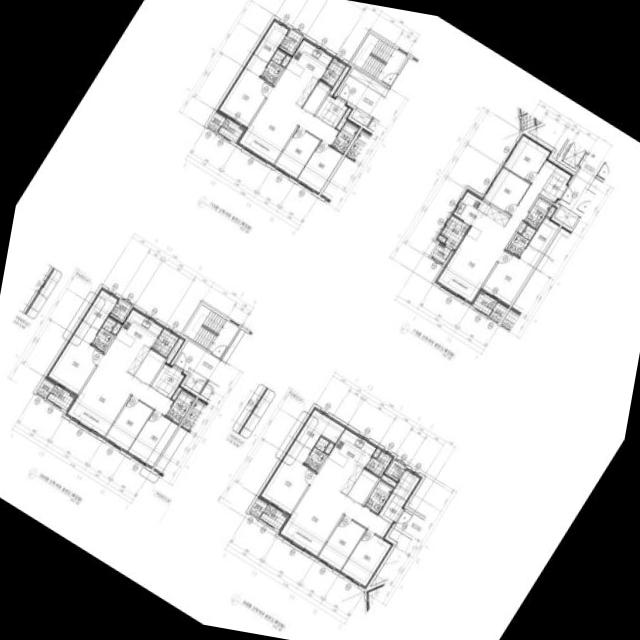background: (0, 0, 640, 640)
space_balconi: (440, 215, 469, 249), (151, 328, 177, 357), (46, 384, 73, 410), (364, 451, 391, 477), (259, 503, 286, 529), (320, 58, 345, 86), (217, 117, 242, 142), (471, 292, 496, 315)
space_bedroom: (46, 333, 102, 394), (259, 453, 315, 513), (218, 68, 271, 126), (480, 250, 532, 307), (340, 529, 391, 586), (127, 410, 177, 466), (104, 395, 152, 450), (317, 515, 365, 570), (296, 141, 342, 192), (274, 127, 319, 178), (483, 167, 529, 215), (503, 135, 549, 182), (324, 442, 333, 453)
space_dressroom: (285, 408, 344, 463), (72, 288, 117, 343), (244, 20, 287, 76), (519, 217, 559, 266)
space_elevator: (555, 138, 588, 172)
space_elevator_hall: (558, 152, 604, 211), (173, 340, 224, 382), (336, 75, 383, 116), (393, 508, 423, 539)
space_front: (155, 364, 183, 398), (538, 174, 568, 203), (377, 492, 405, 523), (321, 96, 347, 128)
space_kitchen: (271, 39, 331, 107), (102, 309, 162, 375), (315, 428, 375, 494), (452, 188, 509, 240)
space_living_room: (434, 160, 555, 304), (279, 475, 392, 555), (66, 356, 172, 436), (238, 89, 338, 163)
space_other: (348, 67, 388, 96), (133, 349, 164, 384), (347, 469, 378, 504), (302, 80, 330, 114), (392, 469, 420, 500), (221, 328, 244, 362), (553, 203, 580, 227), (183, 368, 206, 393), (329, 65, 348, 95), (165, 336, 185, 364), (150, 362, 170, 389), (280, 29, 301, 52), (110, 298, 131, 320), (315, 95, 333, 118), (350, 107, 371, 125), (551, 165, 572, 183), (431, 244, 451, 262), (386, 459, 404, 479), (335, 107, 350, 129), (380, 474, 396, 486), (546, 204, 557, 217), (171, 386, 181, 399), (434, 233, 445, 244), (280, 55, 290, 66), (111, 322, 120, 334), (517, 222, 526, 233), (372, 448, 380, 457)
space_outdoor_room: (206, 111, 224, 131), (489, 302, 507, 322), (248, 497, 266, 517), (35, 378, 53, 397)
space_staircase: (182, 304, 238, 358), (350, 32, 406, 85)
space_toilet: (363, 479, 393, 513), (165, 389, 194, 423), (506, 224, 535, 256), (90, 316, 116, 351), (523, 196, 551, 228), (331, 120, 358, 153), (260, 49, 285, 83), (303, 436, 328, 470)
